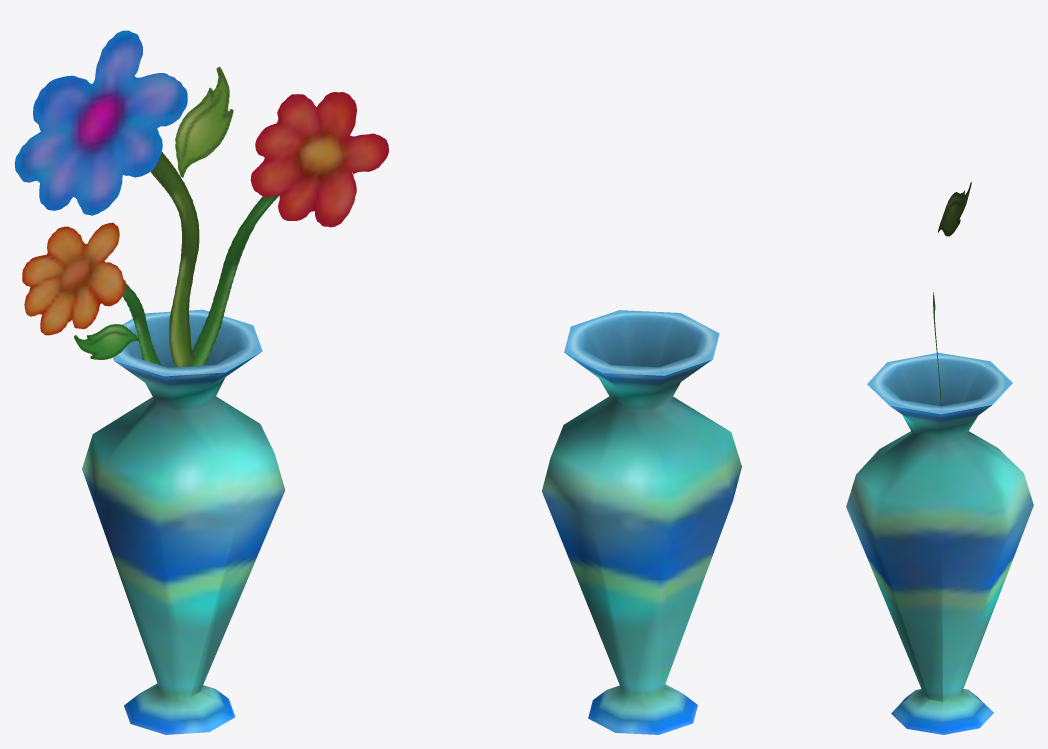
The model's file is vaseA_tall.glb.
3 views of the same model, side by side, from view 1: azimuth 30°, elevation 25°; view 2: azimuth 150°, elevation 25°; view 3: azimuth 270°, elevation 25° (orthographic). The views are drawn at different scales.
Parts seen in each view (by area): view 1: tallVaseA, pPlane7, pPlane17, pPlane6, pPlane9, pPlane11, pPlane16, pPlane18, pPlane13; view 2: tallVaseA; view 3: tallVaseA, pPlane11.
Part boxes in pixels (left/top/right/bottom): tallVaseA: left=82, top=309, right=285, bottom=734; pPlane7: left=14, top=30, right=187, bottom=215; pPlane17: left=250, top=92, right=388, bottom=227; pPlane6: left=22, top=222, right=125, bottom=335; pPlane9: left=151, top=152, right=199, bottom=367; pPlane11: left=175, top=66, right=233, bottom=177; pPlane16: left=187, top=194, right=279, bottom=366; pPlane18: left=74, top=324, right=138, bottom=359; pPlane13: left=122, top=283, right=161, bottom=365; tallVaseA: left=542, top=310, right=741, bottom=734; tallVaseA: left=846, top=352, right=1033, bottom=734; pPlane11: left=938, top=182, right=971, bottom=236.
Bounding box in the file's own units: 1.65 × 2.85 × 0.7754.
Materials: 6 (6 with a texture image).
